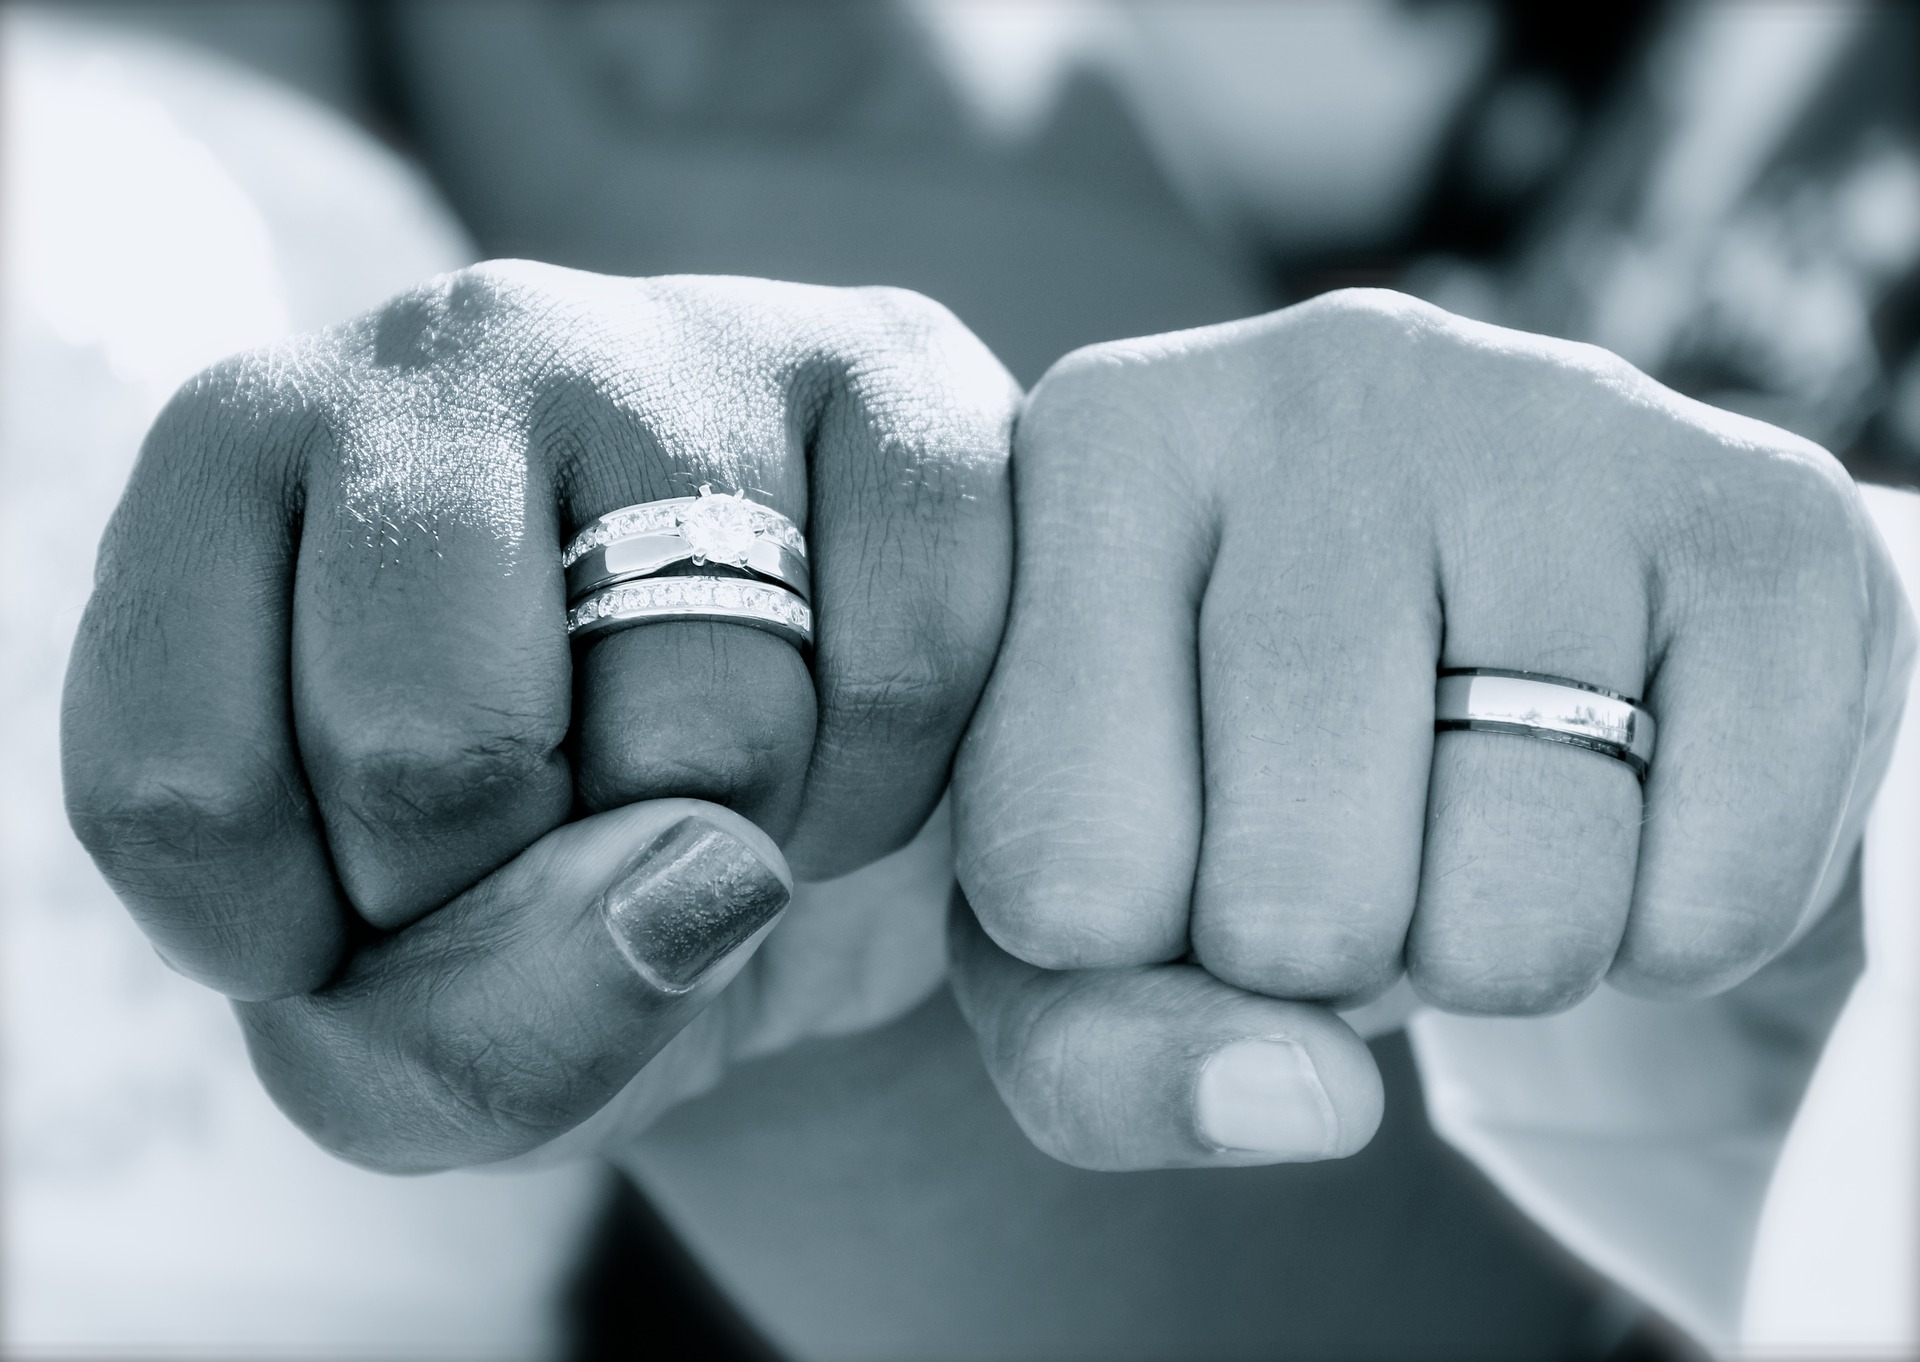fist: (1011, 329, 1835, 1153), (147, 311, 961, 1103)
